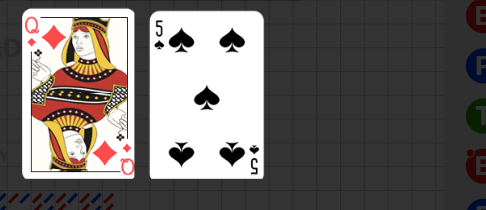5S: (154, 19, 166, 52), (248, 143, 260, 176)
QD: (78, 132, 122, 179), (11, 12, 55, 58)
